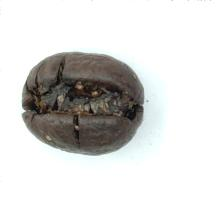NG: (33, 72, 134, 133)
